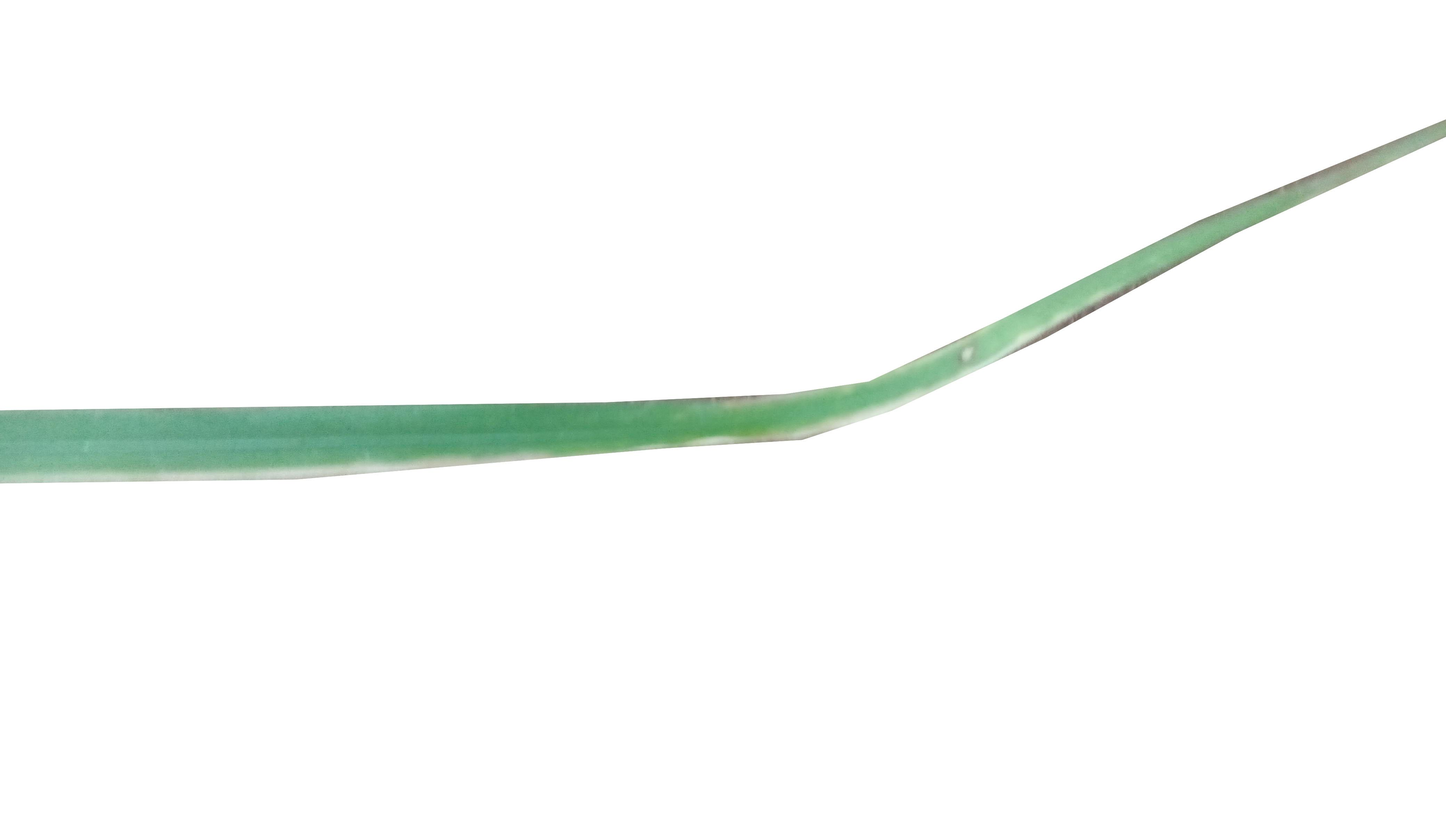Blight: (942, 346, 992, 372)
